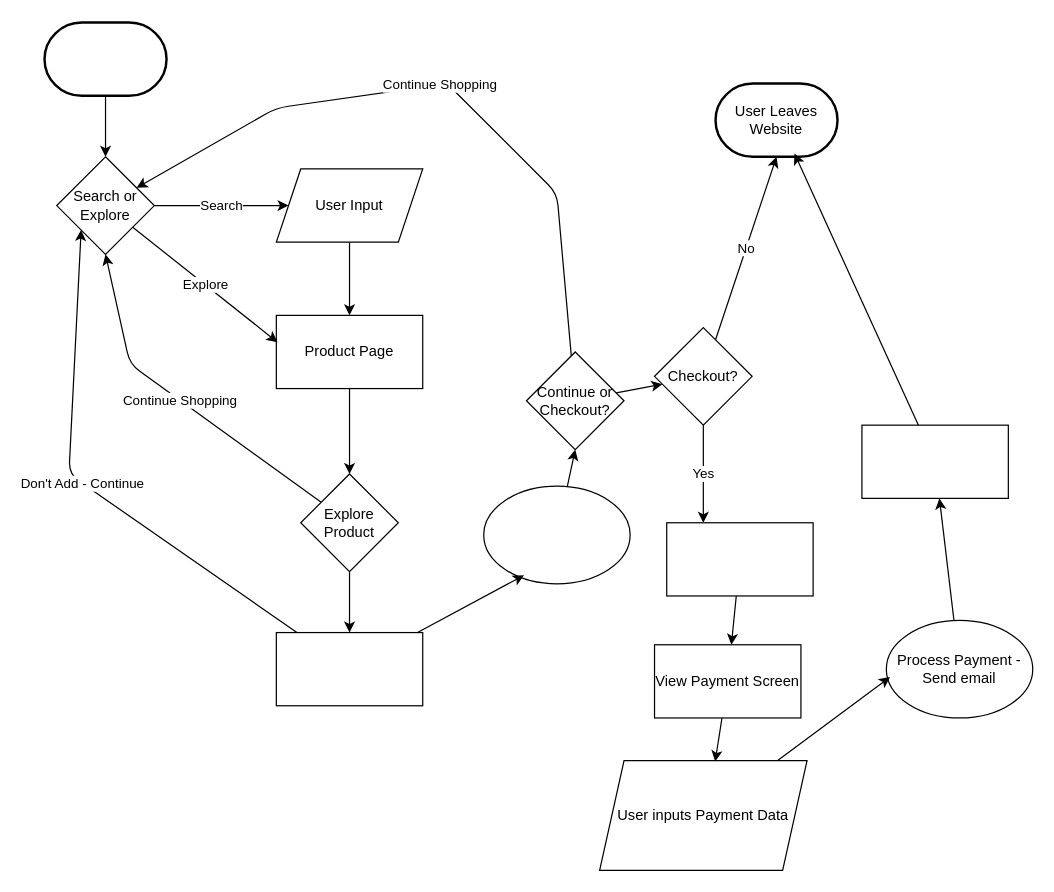
This 1054x892 diagram has some shape labels left out. The box of each missing label's shape, as (x1, y1, x2, y2) in pixels:
Add to Cart: (483, 485, 630, 584)
Confirmation Screen: (861, 424, 1008, 498)
Specific Product: (275, 631, 423, 706)
User Enters Website: (43, 21, 167, 96)
View Cart Screen: (666, 522, 813, 596)
